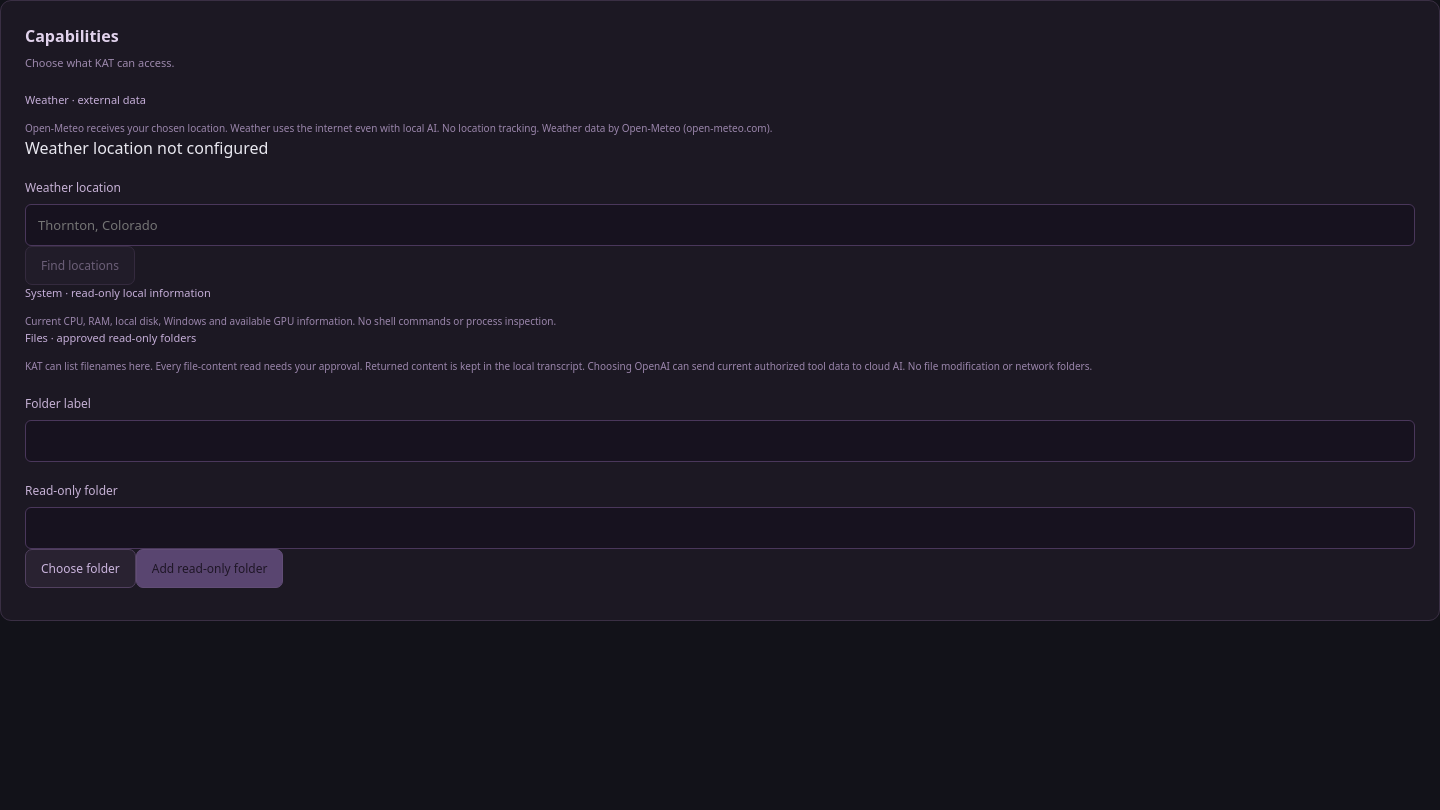
native folder selection needs explicit add and advertises privacy
In the field labelled "Folder label": (720, 441) [25,420,1415,462], type "Test folder"
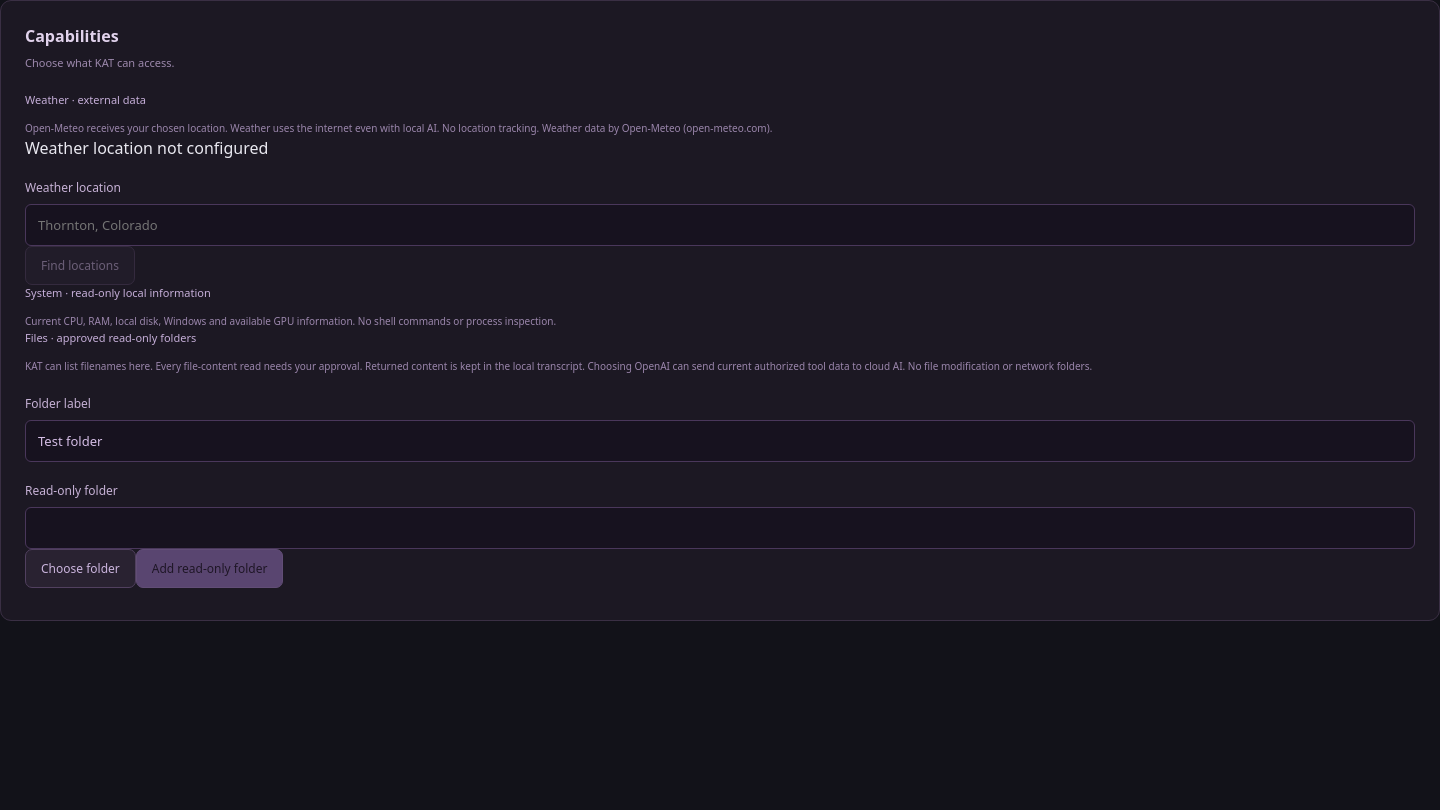
Click the button "Choose folder": (80, 568) [25,549,136,588]
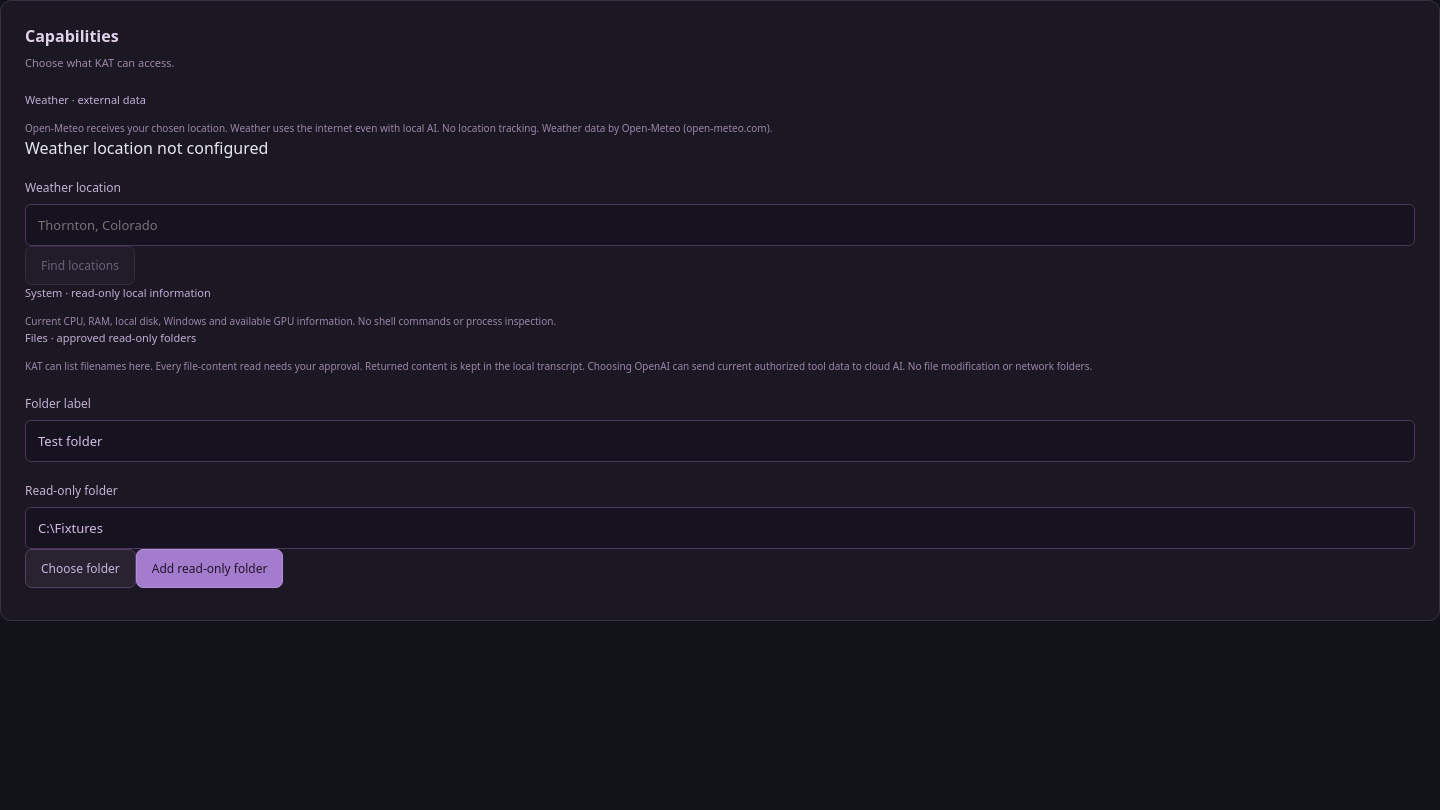
Check: the field labelled "Read-only folder" holds "C:\\Fixtures", box [25,507,1415,549]
Click the button "Add read-only folder": (210, 568) [136,549,283,588]
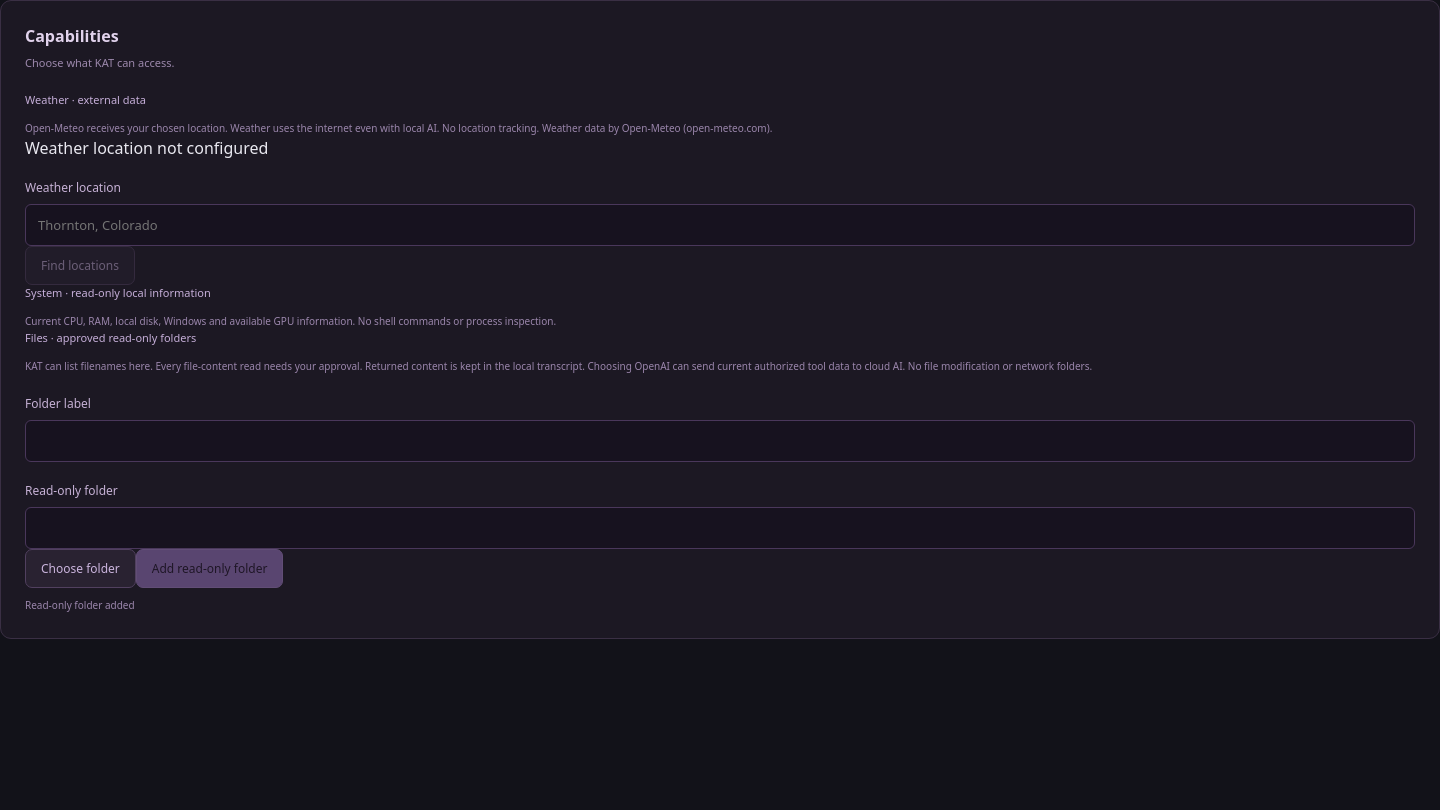
Check: the text "Every file-content read needs your approval" is shown, box [25,359,1092,373]
Check: the text "Read-only folder added" is shown, box [25,598,135,612]
